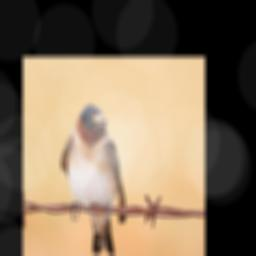Swallow: (60, 103, 126, 256)
